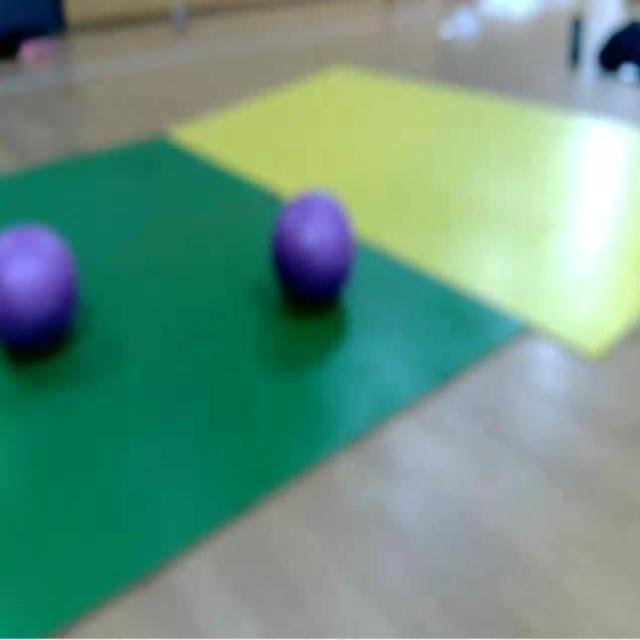purple_ball: (0, 212, 86, 380), (266, 183, 361, 320)
